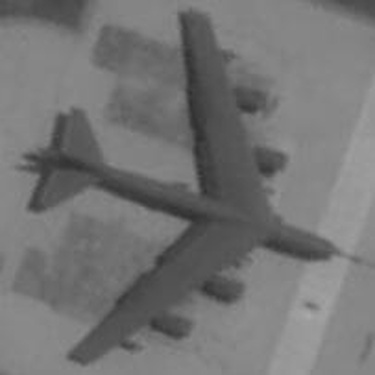airplane: (15, 8, 366, 370)
